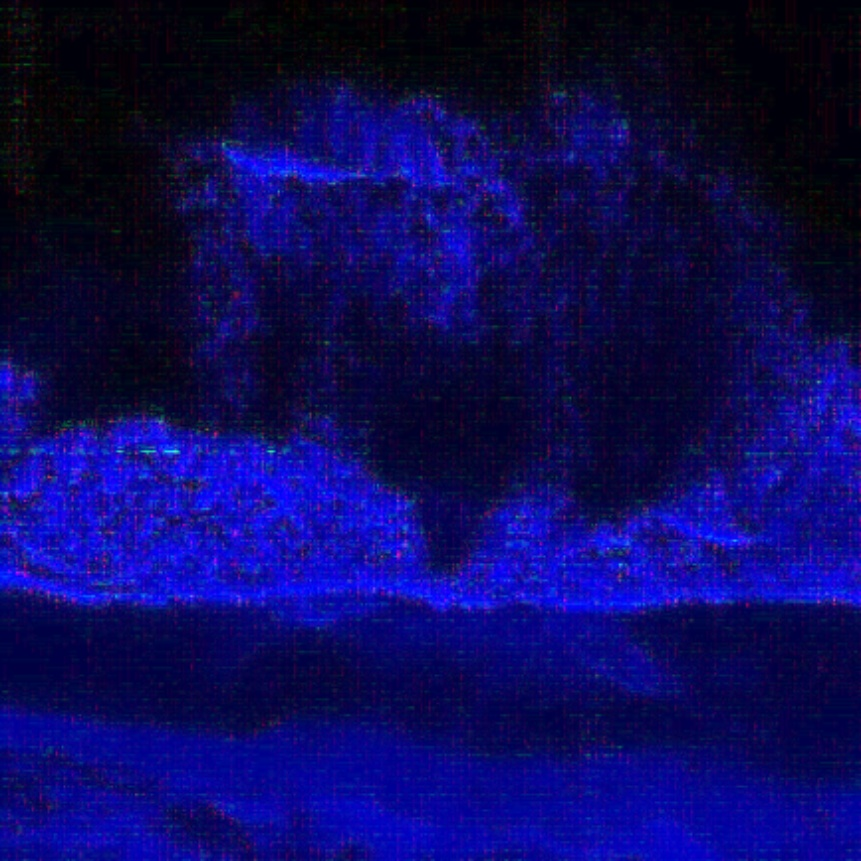rip_current: (285, 254, 566, 561)
